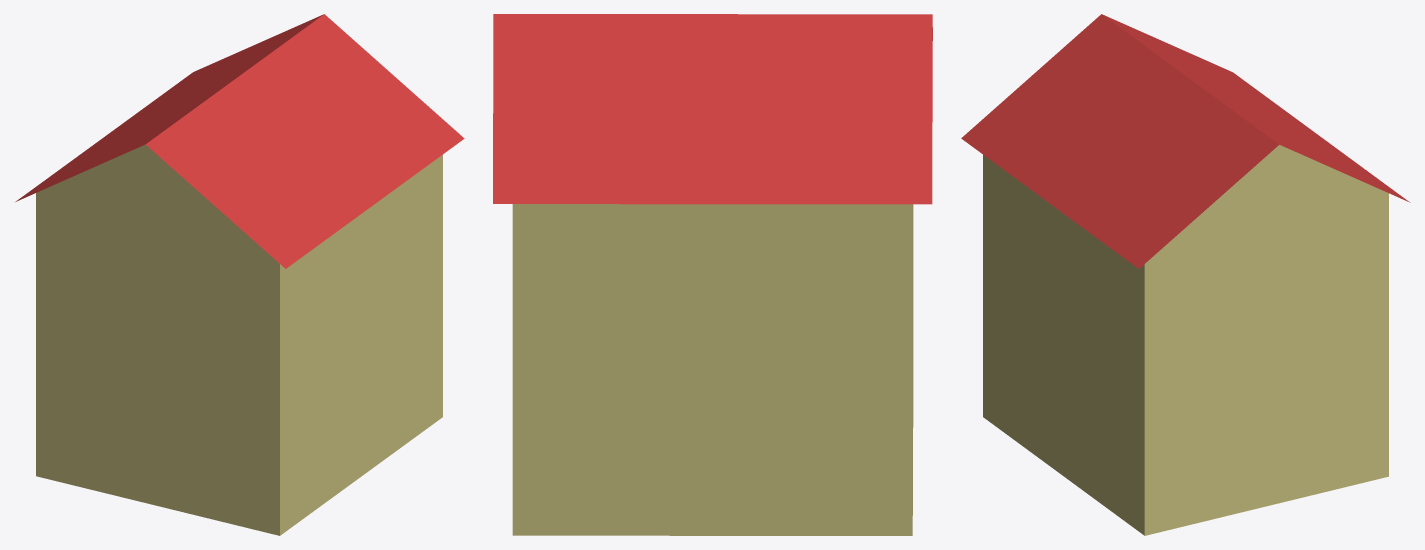
The picture shows the model from 3 angles, left to right: view 1: azimuth 30°, elevation 25°; view 2: azimuth 150°, elevation 25°; view 3: azimuth 270°, elevation 25°; orthographic projection. The views are drawn at different scales.
Size of the model in its own units: 14.6 by 14.1 by 12.67.
